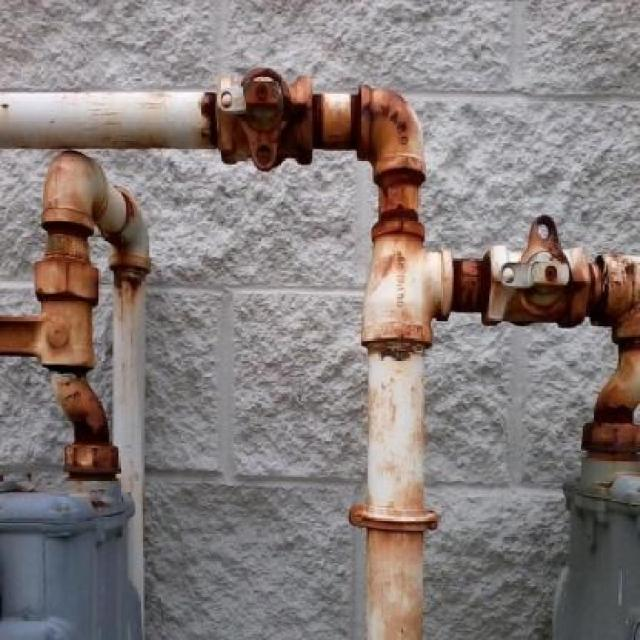corrosion: (2, 66, 638, 480)
